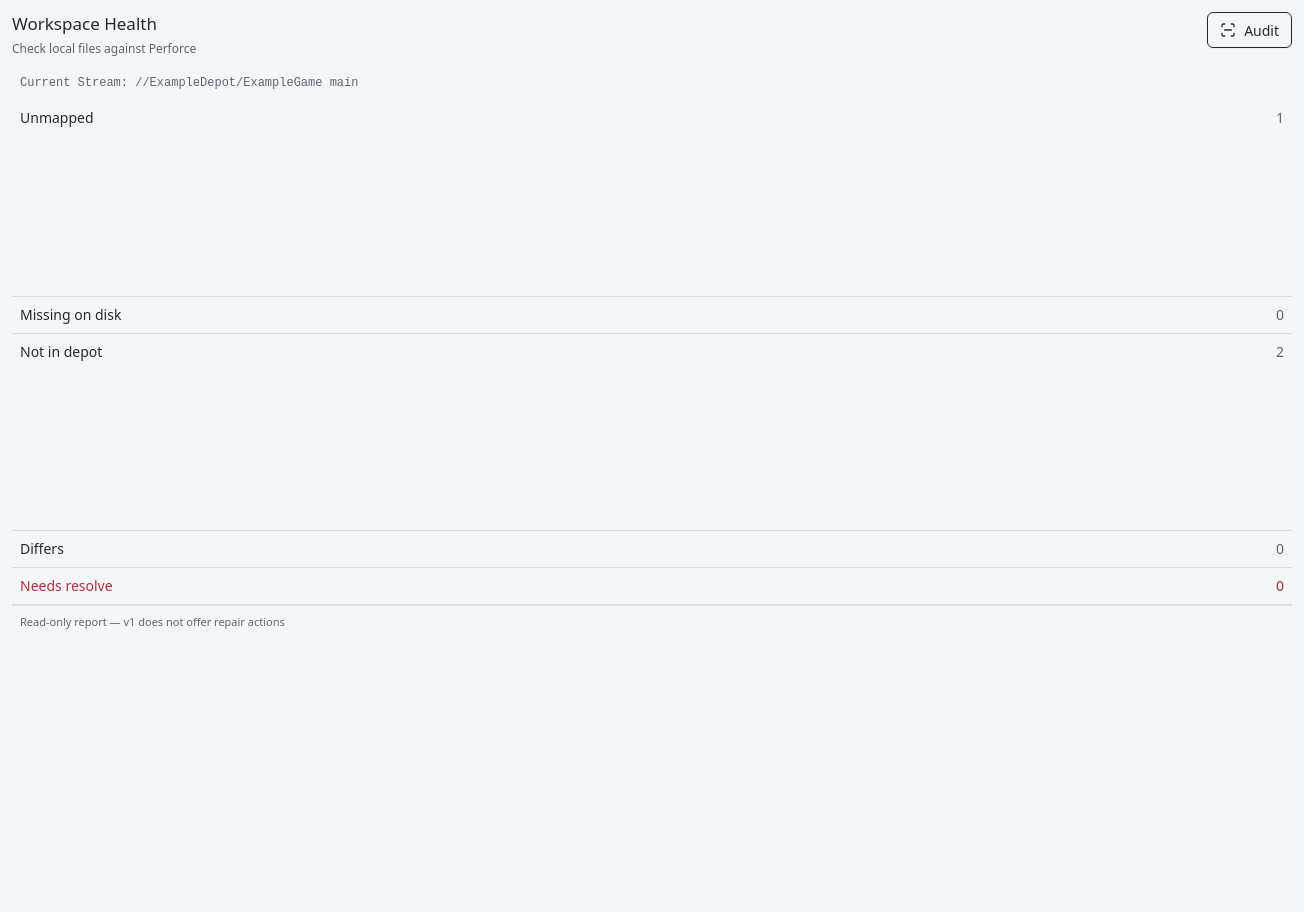
Scenario: WorkspaceHealthPanel dictionary chrome › zero-count groups are collapsed details; opening summary shows common.none
Expected: the text "Missing on disk" is shown, left=20, top=305, right=121, bottom=324
Click the heading "Missing on disk 0": (71, 314) left=20, top=305, right=1284, bottom=324
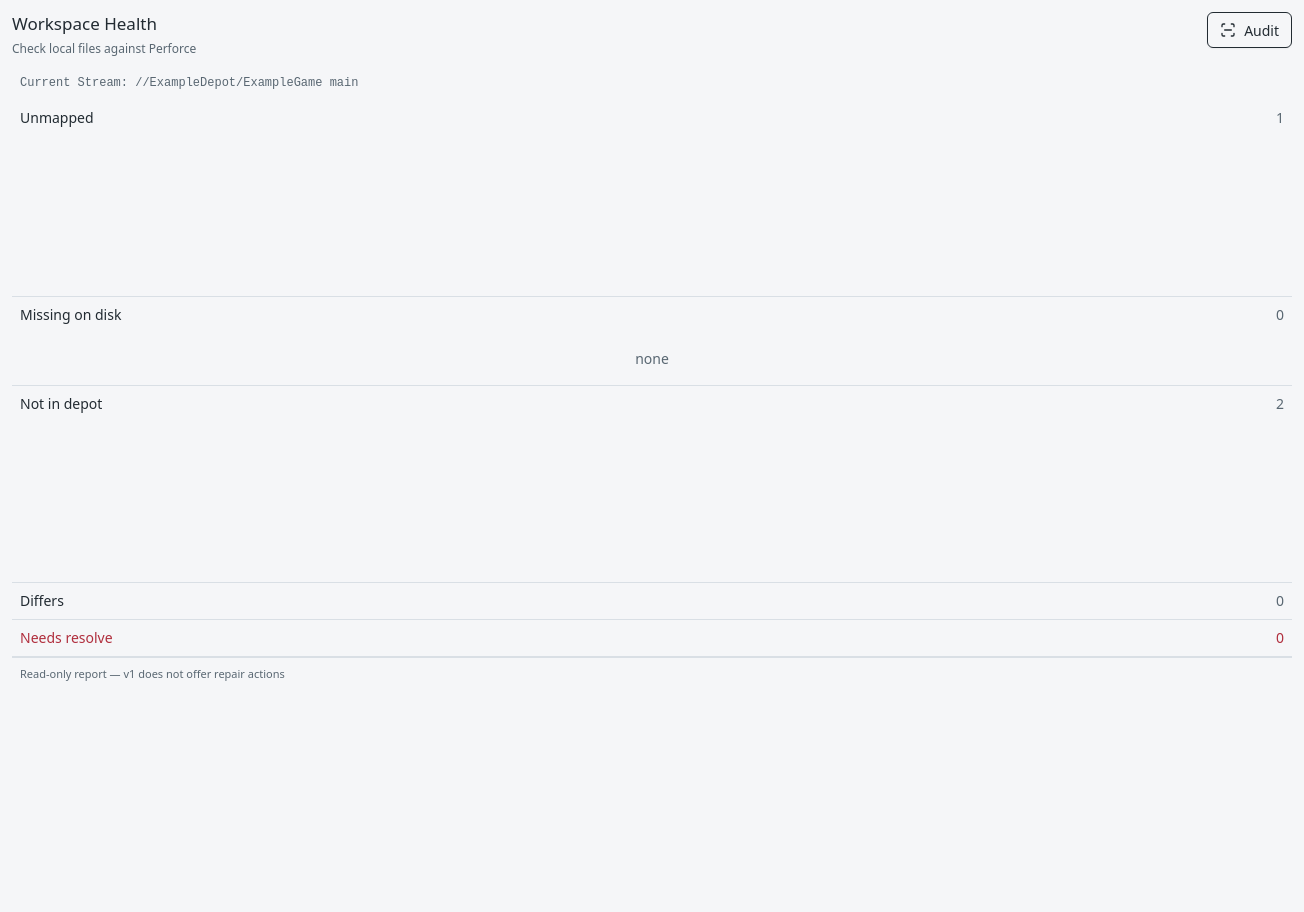
Expected: the text "none" is shown, left=635, top=349, right=669, bottom=368
